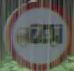Heavy Vehicles: (9, 3, 66, 57)
